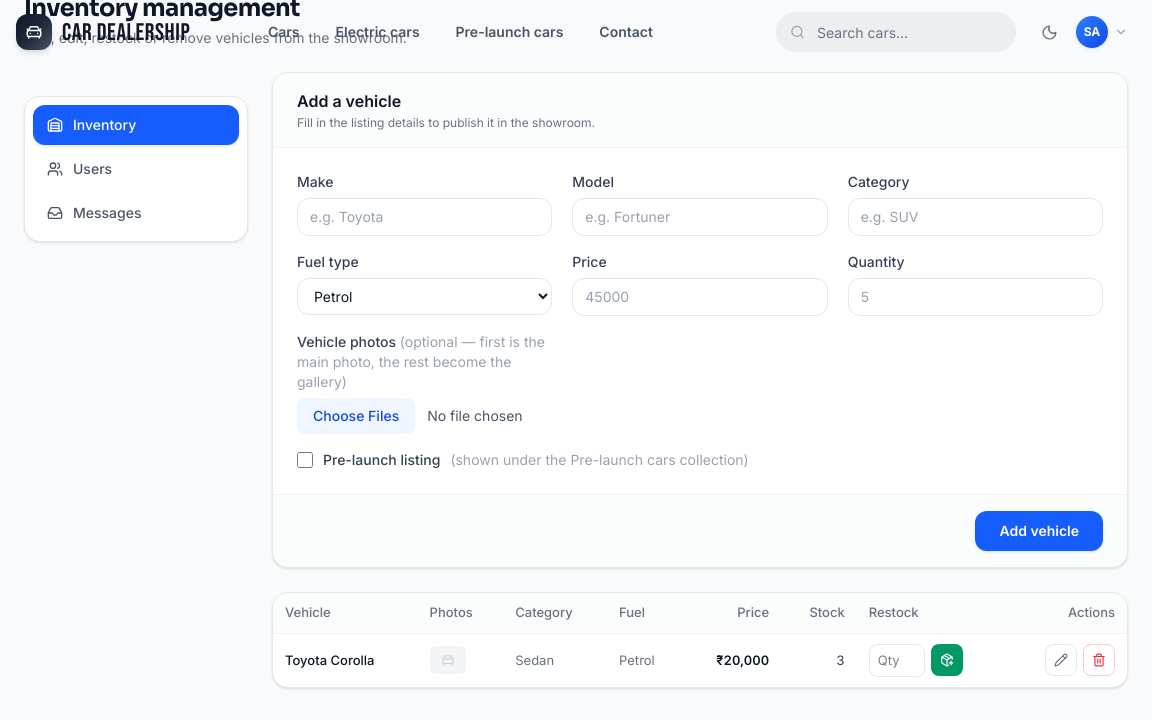
it: AdminPage › deletes a vehicle from its row
This screenshot has width=1152, height=720.
(page scrolled)
Expected: the text "Toyota Corolla" is shown, [285,652,374,668]
What coordinates should you click on to do the following:
click the button named "delete"
I would click on:
 (1099, 660)
Its box is [1083,644,1115,676].
(page scrolled)
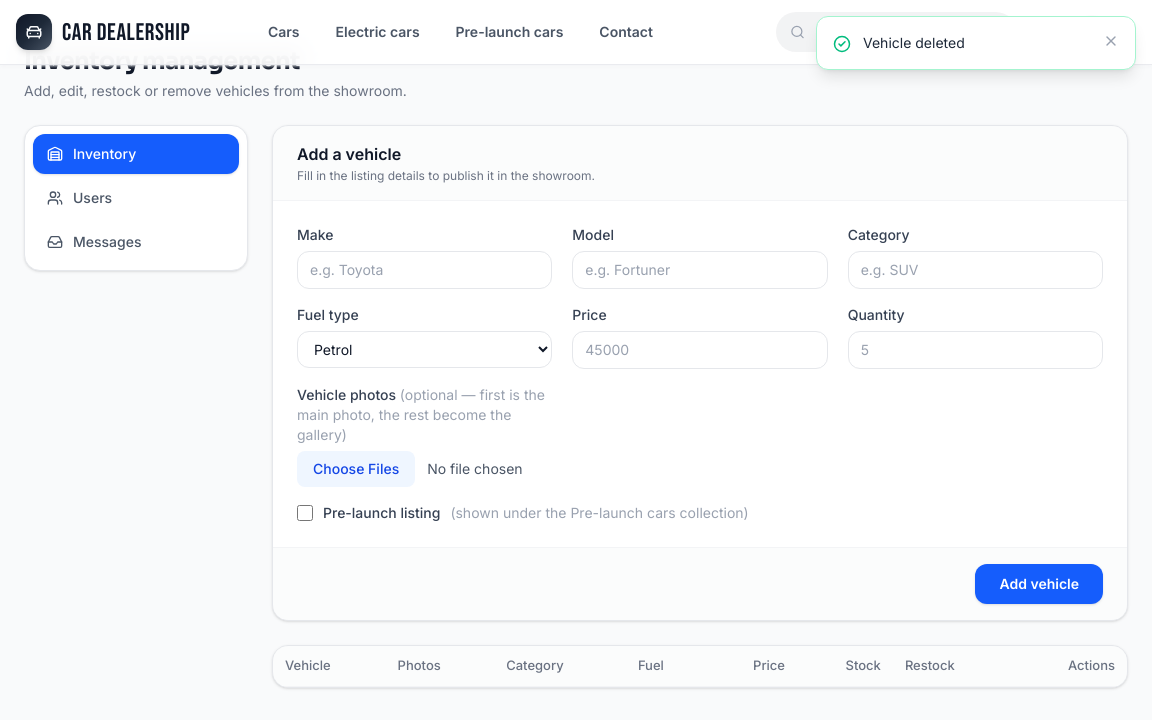
Expected: the text "Corolla" is gone
